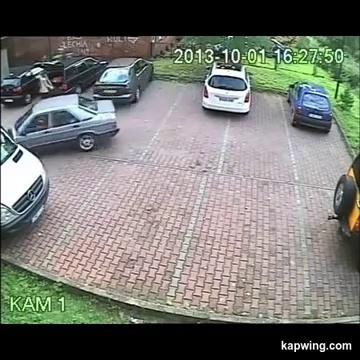car: (9, 94, 119, 150), (1, 126, 49, 235), (328, 153, 359, 270), (34, 56, 107, 96), (93, 57, 153, 102), (202, 62, 250, 113), (287, 81, 332, 132), (1, 66, 43, 105)
